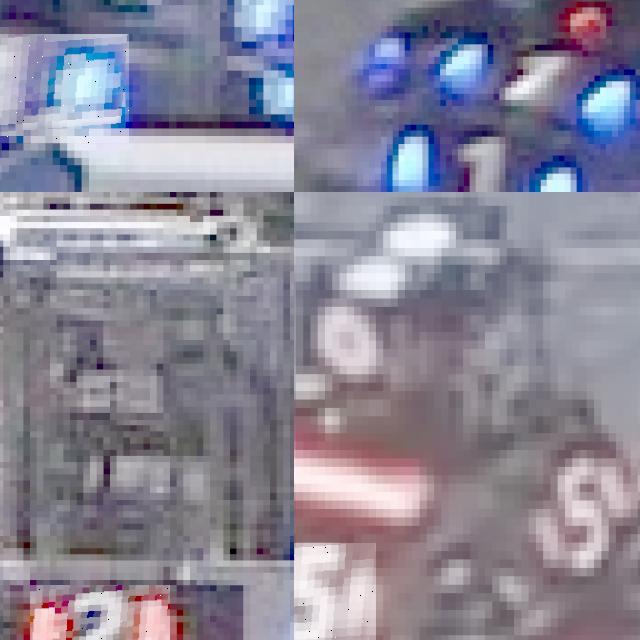B1: (413, 26, 633, 112), (365, 118, 579, 192), (0, 34, 129, 143)
R2: (30, 585, 170, 640)
R5: (521, 441, 640, 584), (294, 542, 375, 640)
